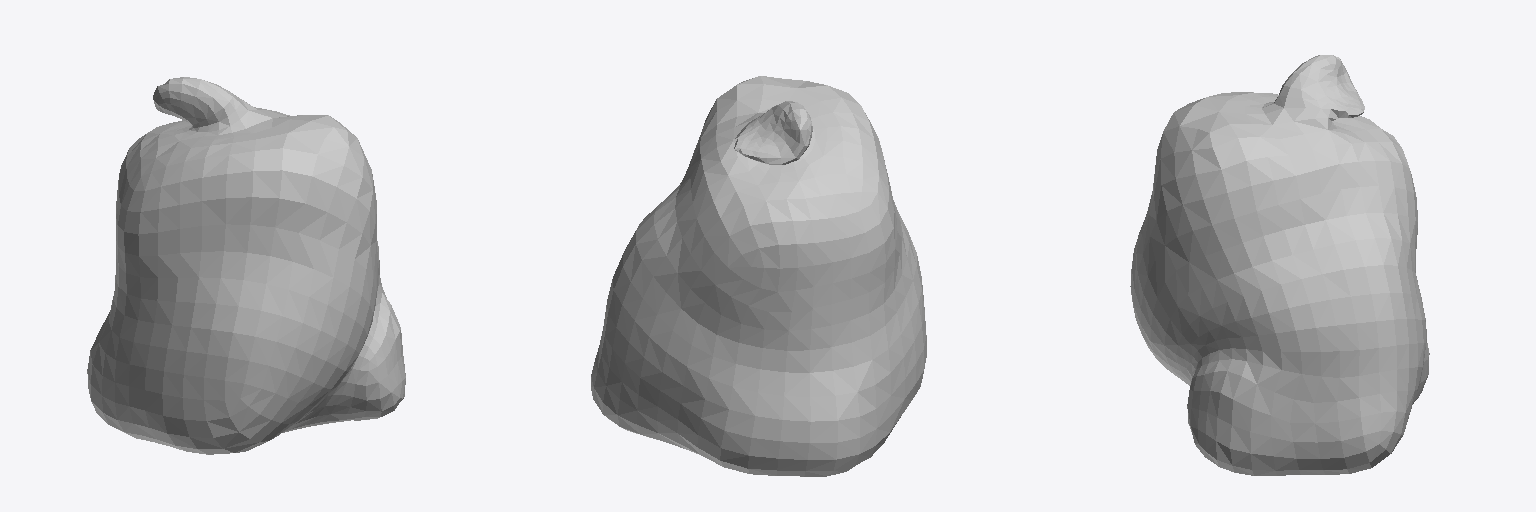
File: trash_bag.obj
The picture shows the model from 3 angles: view 1: azimuth 30°, elevation 25°; view 2: azimuth 150°, elevation 25°; view 3: azimuth 270°, elevation 25°; orthographic projection.
Visible parts, largest first — view 1: lower_SubTool3:obj0; view 2: lower_SubTool3:obj0; view 3: lower_SubTool3:obj0.
Boxes of the visible parts, x1,y1,x2,y2 form: lower_SubTool3:obj0: [87, 77, 405, 454]; lower_SubTool3:obj0: [591, 76, 926, 476]; lower_SubTool3:obj0: [1130, 55, 1429, 475].
Bounding box in the file's own units: 1.44 × 1.82 × 1.41.